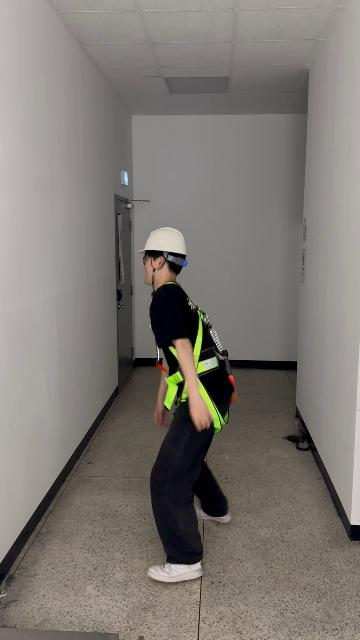helmet_worn: (137, 226, 188, 258)
shoe_not_worn: (146, 560, 204, 583), (193, 496, 231, 524)
vest_worn: (156, 295, 235, 430)
